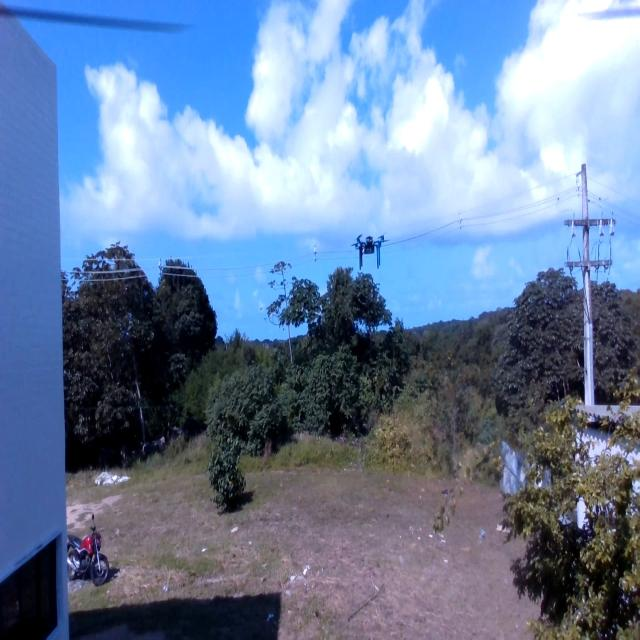-uav-: (349, 221, 391, 281)
